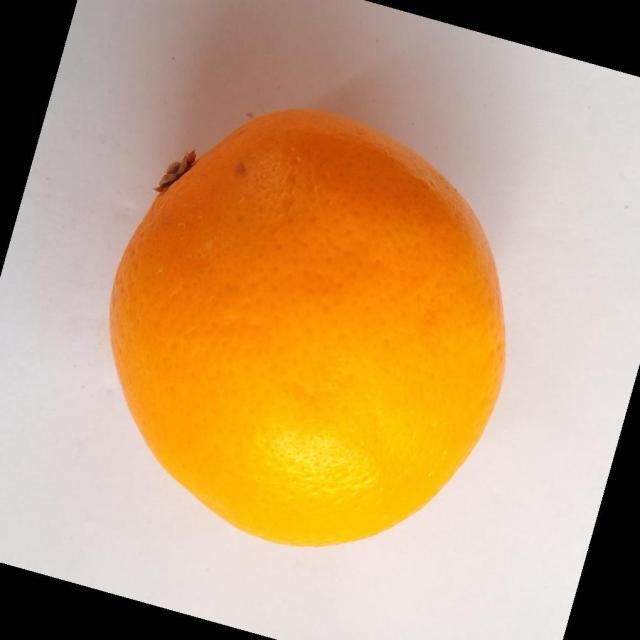agrume: (107, 106, 507, 548)
